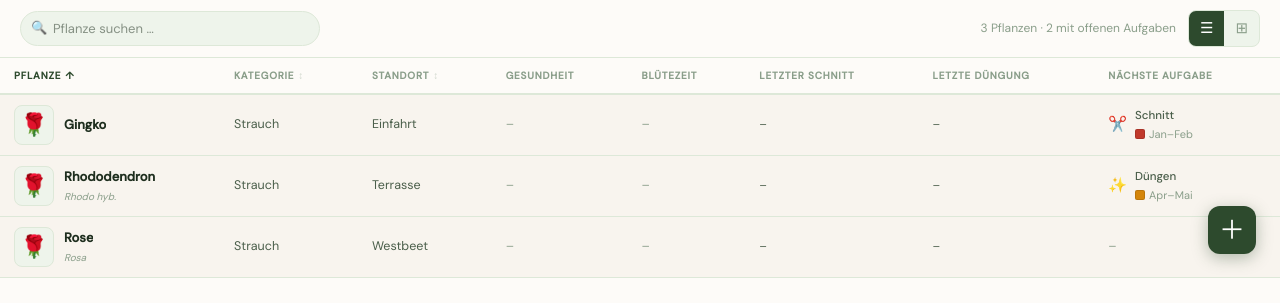
Test case: PlantsView — view toggle (AC #5) › switches to card view on ⊞ click
Expected: the number of rows with test id "plant-row" is 3, [0,94,1279,155]; [0,155,1279,216]; [0,216,1279,277]
Click the button with test id "view-card".
click(1242, 28)  # box [1224,11,1259,46]
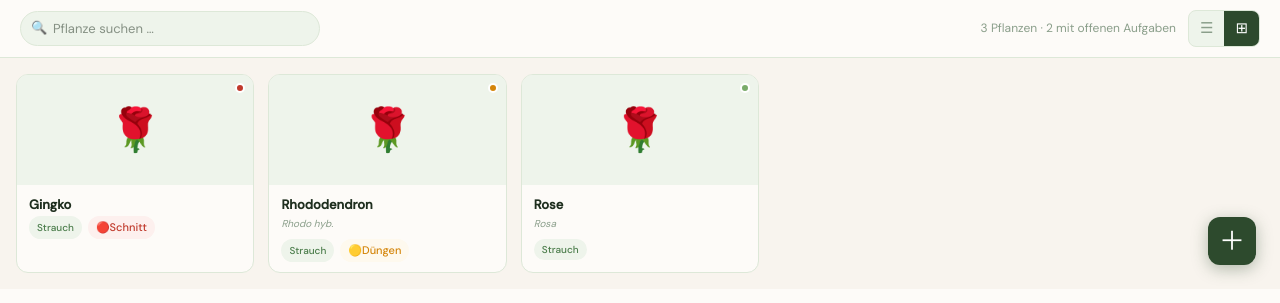
Expected: the element with test id "plants-cards" is shown, [16,74,759,272]
Expected: the element with test id "plants-table" is gone
Expected: the number of elements with test id "plant-card" is 3, [16,74,254,272]; [268,74,507,272]; [521,74,759,272]
